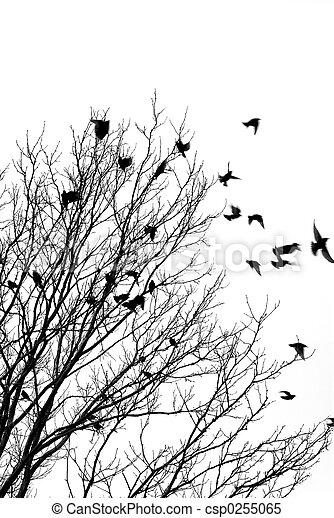bird: (230, 104, 269, 139), (272, 382, 305, 403), (241, 208, 269, 228)
